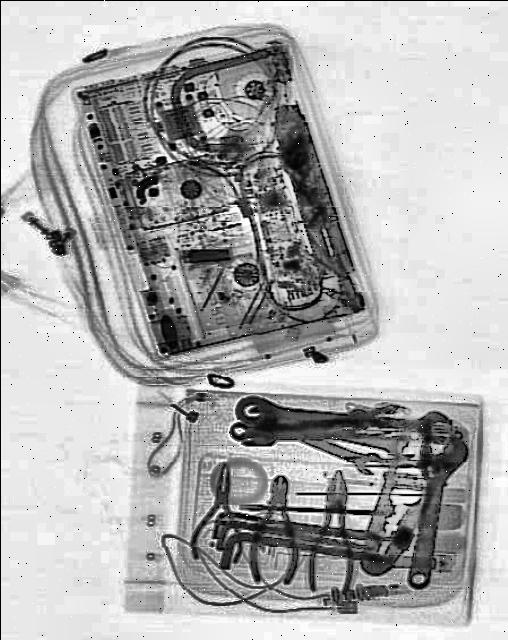Pliers: (347, 434, 449, 590), (304, 469, 360, 598), (190, 459, 250, 568), (246, 474, 301, 588)
Wrench: (386, 428, 470, 596), (230, 392, 382, 483), (232, 390, 452, 446)
